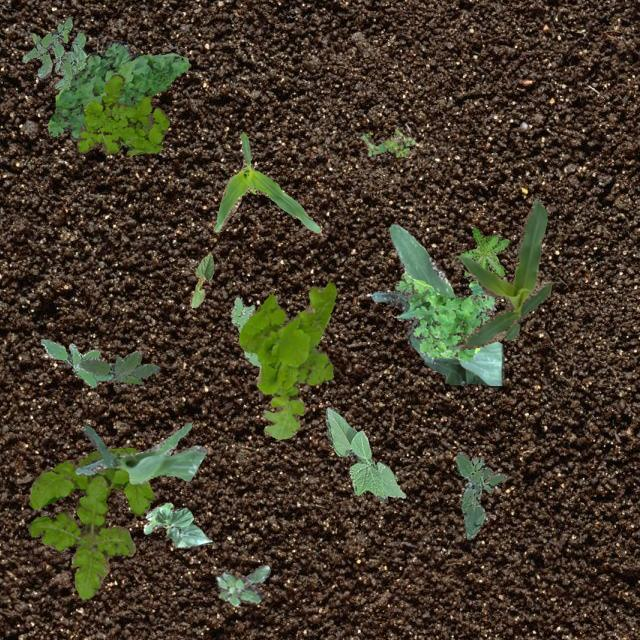crop: (368, 222, 502, 384), (446, 198, 550, 348), (212, 132, 320, 232), (74, 422, 206, 484), (324, 406, 404, 502), (142, 502, 210, 546), (188, 252, 212, 306)
weed: (27, 446, 154, 598), (238, 281, 336, 438), (46, 39, 188, 144), (394, 272, 494, 360), (75, 73, 168, 154), (21, 15, 86, 90), (454, 451, 506, 538), (40, 338, 112, 386), (78, 349, 158, 384), (458, 227, 509, 274), (216, 564, 270, 604), (230, 296, 260, 366), (362, 128, 414, 156)
